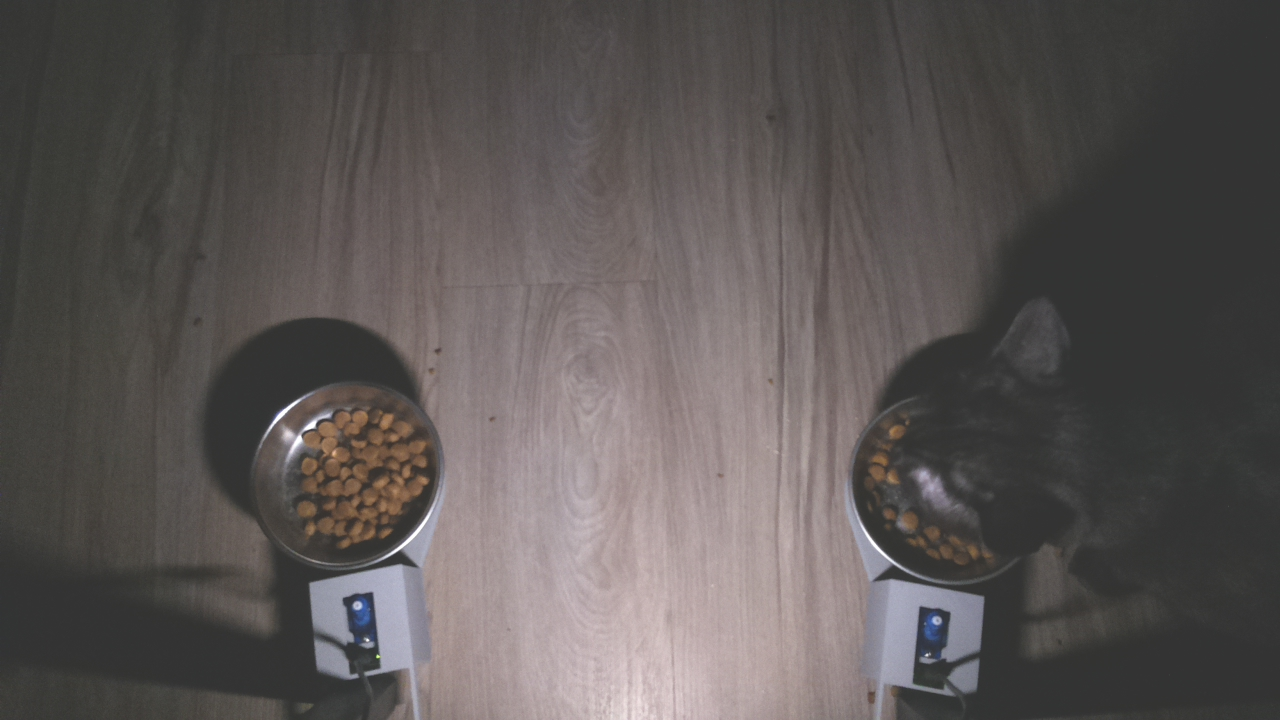open_bowl: (244, 371, 443, 577)
saki_eating: (844, 296, 1101, 596)
